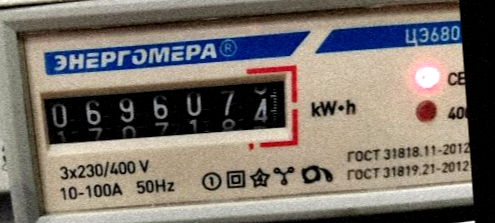0: (49, 100, 72, 130), (185, 88, 205, 118), (84, 98, 103, 125)
4: (252, 96, 271, 125)
6: (150, 90, 170, 121)
7: (218, 86, 238, 116)
9: (117, 94, 137, 124)
screen: (26, 61, 305, 164)
